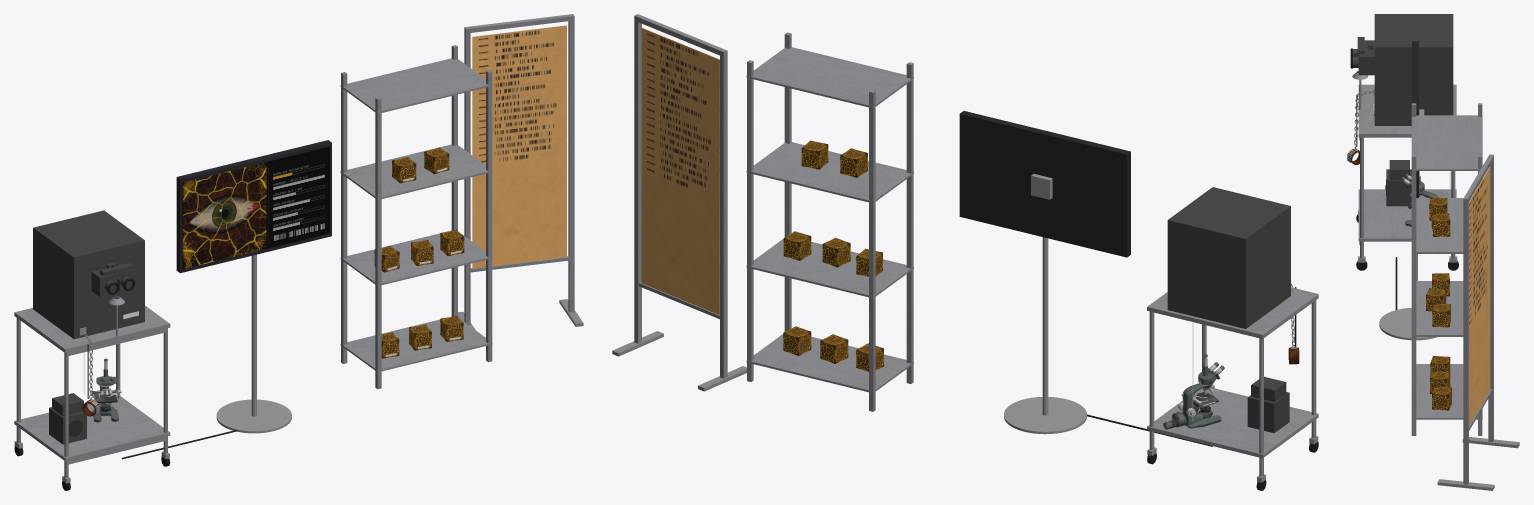
Rendered from agrypnia_sala.glb.
3 views of the same model, side by side, from view 1: azimuth 30°, elevation 25°; view 2: azimuth 150°, elevation 25°; view 3: azimuth 270°, elevation 25° (orthographic). The views are drawn at different scales.
Visible parts, largest first — view 1: piel_registro, estante, pantalla_imagen, vitrina, carro, bastidor, bloques_resina, pantalla_pie, pantalla_marco, visor, microscopio, bocina; view 2: estante, piel_registro, pantalla_marco, vitrina, carro, bastidor, bloques_resina, pantalla_pie, microscopio, bocina; view 3: estante, vitrina_lado, piel_registro, carro, bastidor, vitrina, bloques_resina, pantalla_pie, visor, bocina, pantalla_marco, bomba (+2 smaller).
Part boxes in pixels (<box>): piel_registro: <box>472,25,566,268</box>; estante: <box>340,45,492,389</box>; pantalla_imagen: <box>182,146,329,269</box>; vitrina: <box>33,210,144,339</box>; carro: <box>14,305,170,477</box>; bastidor: <box>458,14,583,329</box>; bloques_resina: <box>374,147,464,358</box>; pantalla_pie: <box>216,254,291,433</box>; pantalla_marco: <box>176,140,331,273</box>; visor: <box>91,262,138,320</box>; microscopio: <box>92,358,121,422</box>; bocina: <box>49,407,86,444</box>; estante: <box>746,32,913,411</box>; piel_registro: <box>641,28,719,314</box>; pantalla_marco: <box>959,111,1130,257</box>; vitrina: <box>1167,187,1290,328</box>; carro: <box>1147,287,1318,476</box>; bastidor: <box>612,14,746,391</box>; bloques_resina: <box>783,140,883,371</box>; pantalla_pie: <box>1004,174,1086,434</box>; microscopio: <box>1163,354,1224,429</box>; bocina: <box>1247,392,1289,433</box>; estante: <box>1411,103,1482,435</box>; vitrina_lado: <box>1374,47,1453,125</box>; piel_registro: <box>1469,167,1490,425</box>; carro: <box>1358,84,1456,258</box>; bastidor: <box>1437,154,1519,490</box>; vitrina: <box>1374,14,1453,125</box>; bloques_resina: <box>1426,197,1451,410</box>; pantalla_pie: <box>1379,109,1437,340</box>; visor: <box>1353,37,1374,115</box>; bocina: <box>1386,169,1411,206</box>; pantalla_marco: <box>1412,41,1418,197</box>; bomba: <box>1389,160,1409,179</box>.
Bounding box in the file's own units: 4.03 × 2.02 × 1.09.
21 materials, 8 textured.
